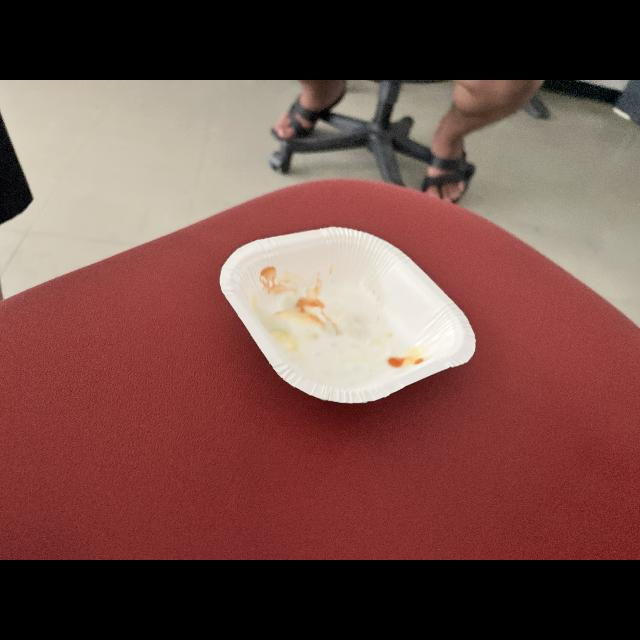cardboard_bowl: (213, 214, 477, 414)
